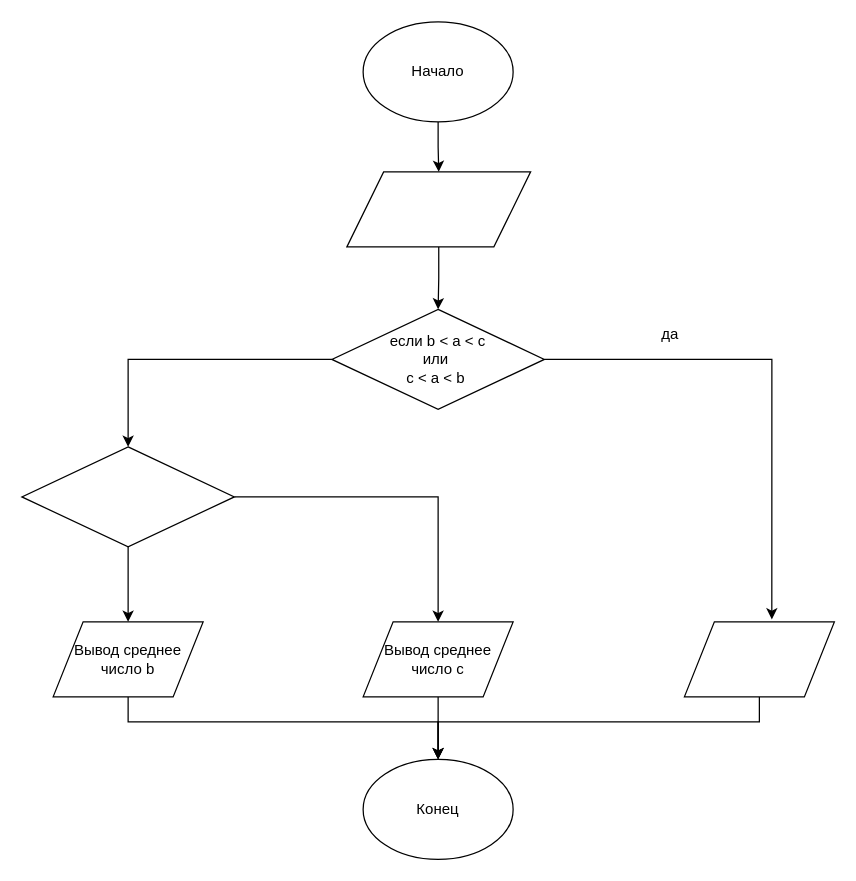
Some shapes in this 856 by 881 pixel diagram are drawn without their labels. The centre of each missing label's shape, as x and y in pixels:
"Ввод трех чисел a, b, c" goes at point 438,209.
"Вывод среднее число а" goes at point 758,659.
"если a < b < c или c < b < a" goes at point 127,496.
